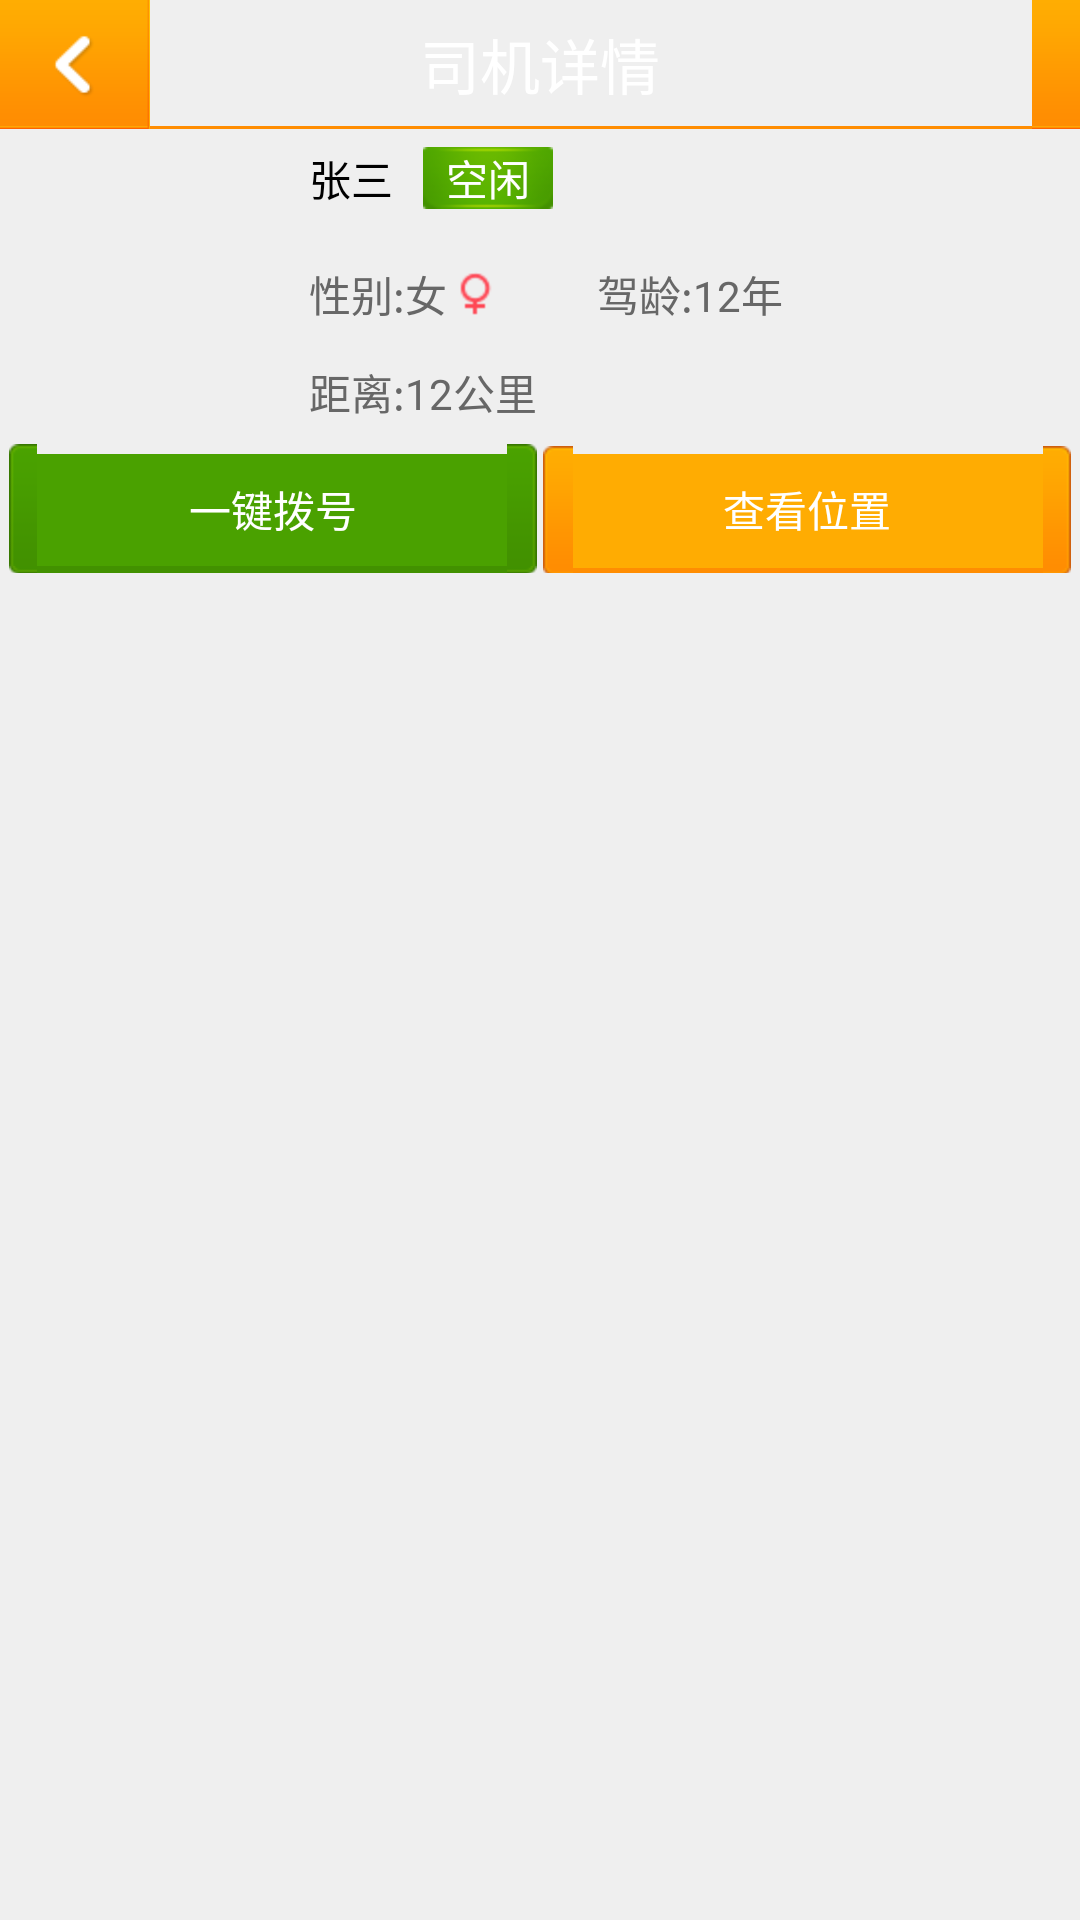

Screen size 1080 x 1920. Icon name, then its box in pixels as (x1, y1, x2, y2):
back: (37, 27, 112, 96)
